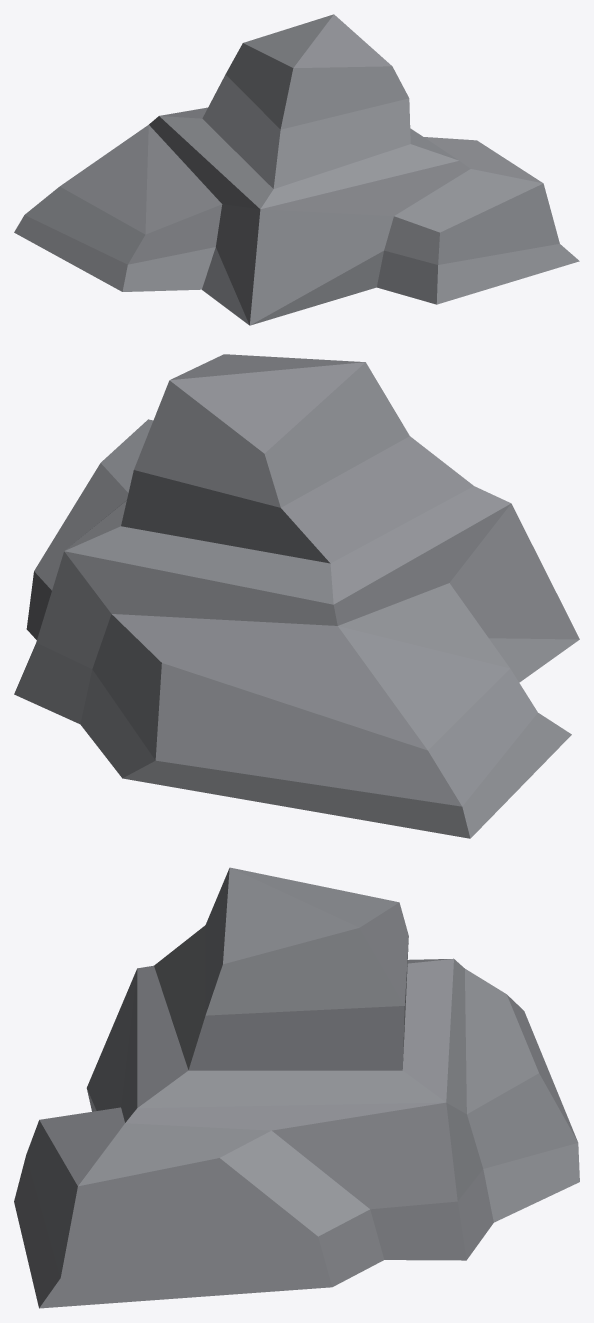
Rendered from stone_2.fbx.
3 views of the same model, one above another, from view 1: azimuth 30°, elevation 25°; view 2: azimuth 150°, elevation 25°; view 3: azimuth 270°, elevation 25° (orthographic). The views are drawn at different scales.
Parts seen in each view (by area): view 1: stone_2; view 2: stone_2; view 3: stone_2.
Boxes of the visible parts, x1,y1,x2,y2 form: stone_2: [14, 14, 579, 325]; stone_2: [14, 354, 579, 838]; stone_2: [14, 867, 579, 1308].
Size of the model in its own units: 220 by 106 by 190.
